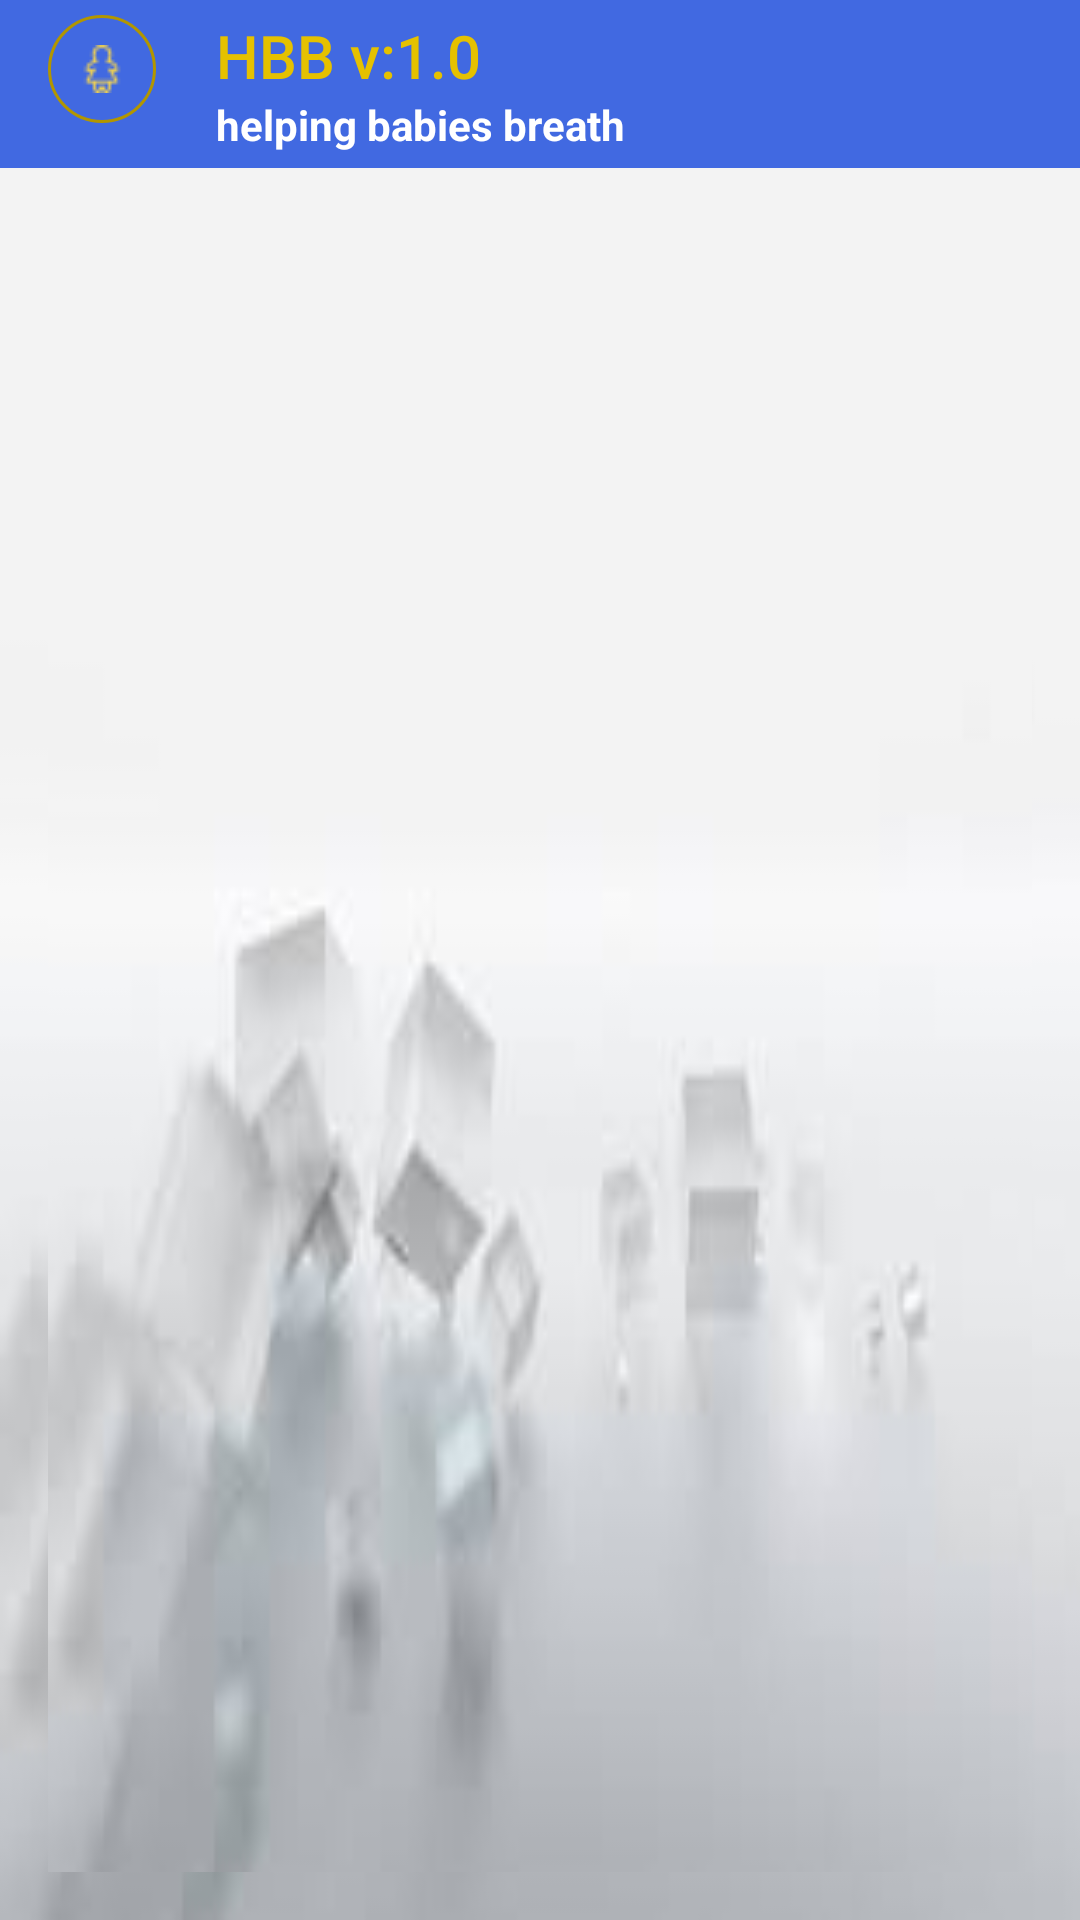

Point at icon controls on the screen. Image size 1080w x 1920h, points as (x=x, y=y).
babe girl: (x=102, y=69)
